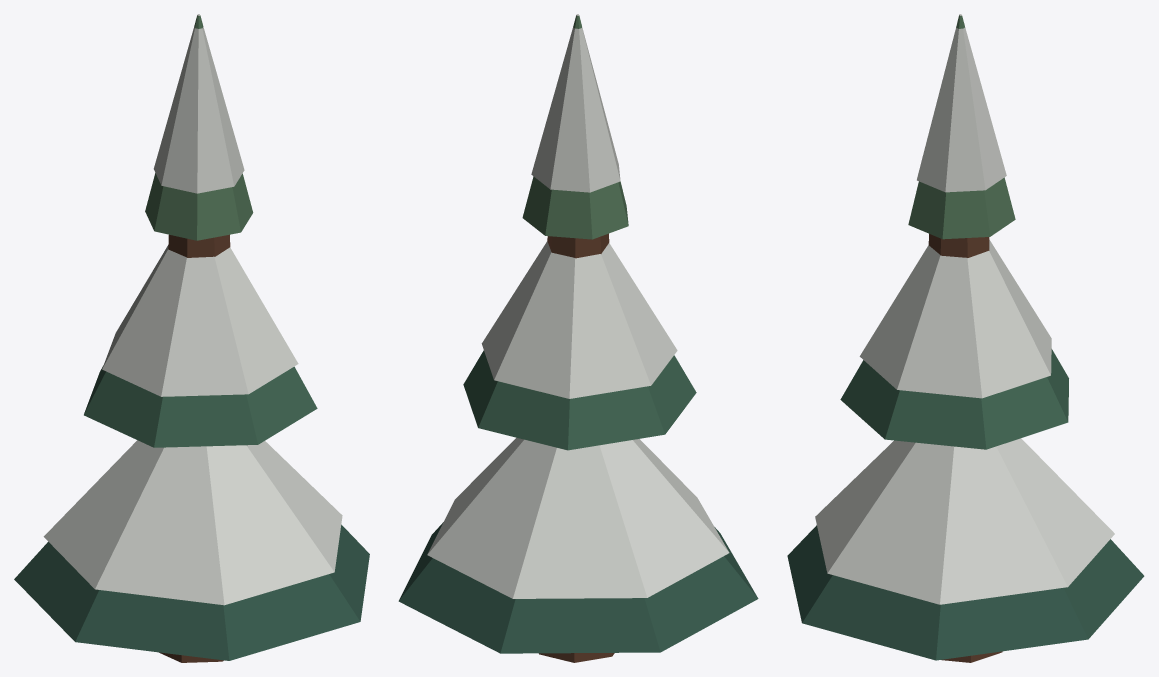
3 views of the same model, side by side, from view 1: azimuth 30°, elevation 25°; view 2: azimuth 150°, elevation 25°; view 3: azimuth 270°, elevation 25° (orthographic).
Parts seen in each view (by area): view 1: T04_矮雪杉; view 2: T04_矮雪杉; view 3: T04_矮雪杉.
Part boxes in pixels (x1,y1,x2,y2): T04_矮雪杉: (14,14,369,662); T04_矮雪杉: (398,14,758,662); T04_矮雪杉: (787,14,1144,662).
Bounding box in the file's own units: 0.9175 × 1.77 × 0.9131.
